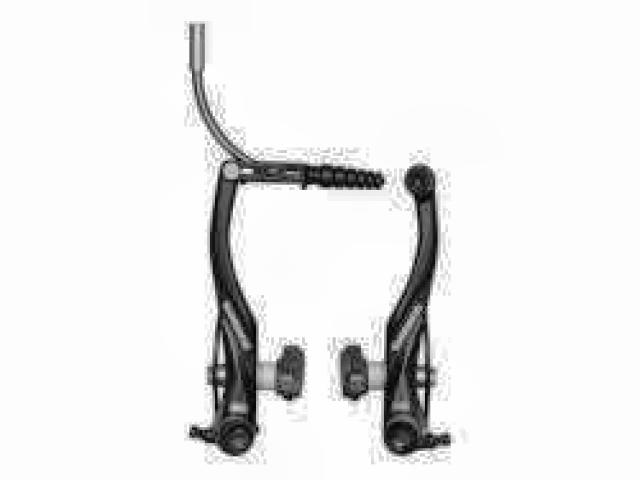rim_brake: (191, 159, 453, 457)
